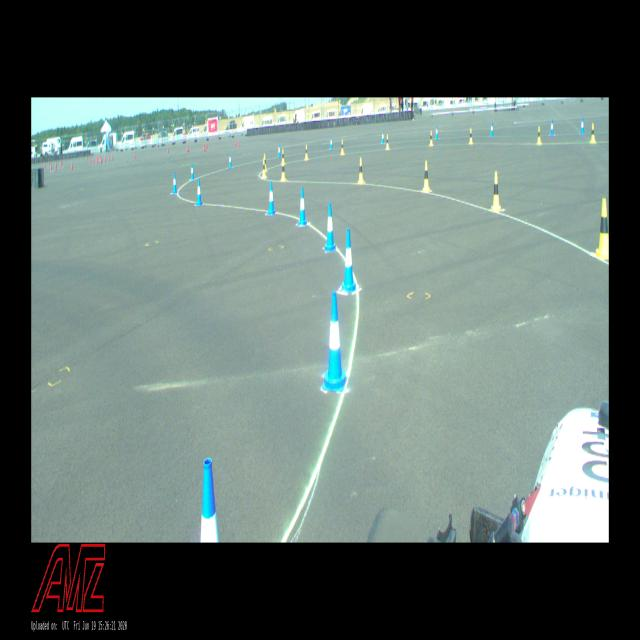blue_cone: (322, 291, 348, 391), (201, 458, 219, 542), (342, 228, 356, 292), (324, 203, 336, 251), (298, 187, 306, 226), (268, 182, 276, 215), (196, 180, 202, 205), (173, 172, 177, 194), (190, 163, 194, 180), (580, 118, 584, 134), (550, 120, 554, 135), (491, 122, 494, 136), (330, 137, 333, 150), (278, 144, 281, 157), (229, 154, 231, 168), (382, 131, 384, 143), (436, 126, 438, 138)
unknown_cone: (203, 144, 205, 151), (206, 142, 208, 147), (205, 144, 206, 152), (235, 139, 236, 146), (238, 140, 239, 147), (187, 145, 188, 152), (55, 165, 56, 171), (188, 145, 189, 151), (71, 164, 72, 169), (168, 147, 169, 152)
yellow_cone: (596, 199, 609, 257), (492, 172, 501, 211), (423, 161, 430, 192), (358, 158, 364, 183), (280, 159, 286, 181), (591, 124, 595, 142), (262, 160, 266, 178), (537, 127, 541, 144), (469, 128, 473, 144), (281, 149, 285, 165), (341, 139, 344, 155), (305, 145, 308, 160), (386, 135, 389, 149), (264, 155, 266, 171), (430, 131, 432, 145)
